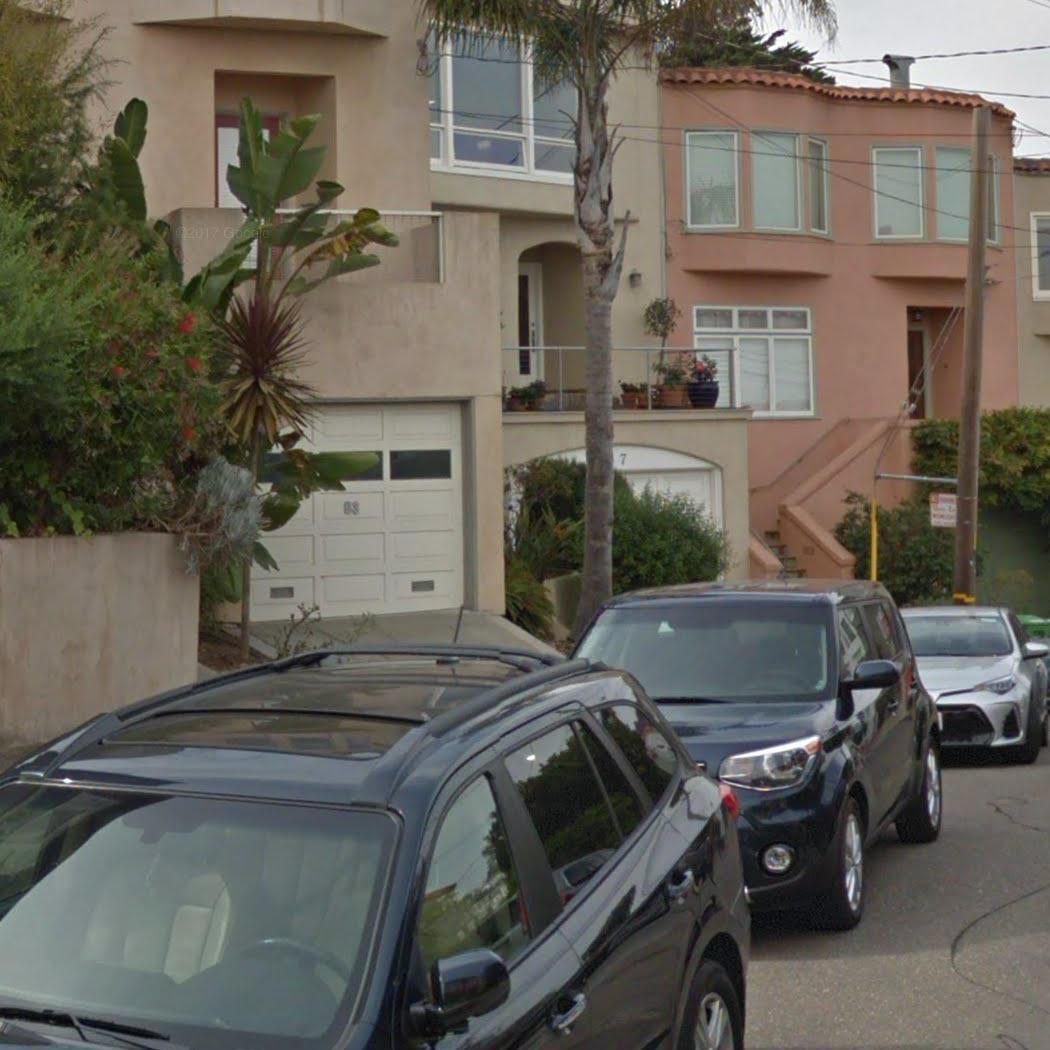No Parking: (927, 490, 960, 528)
